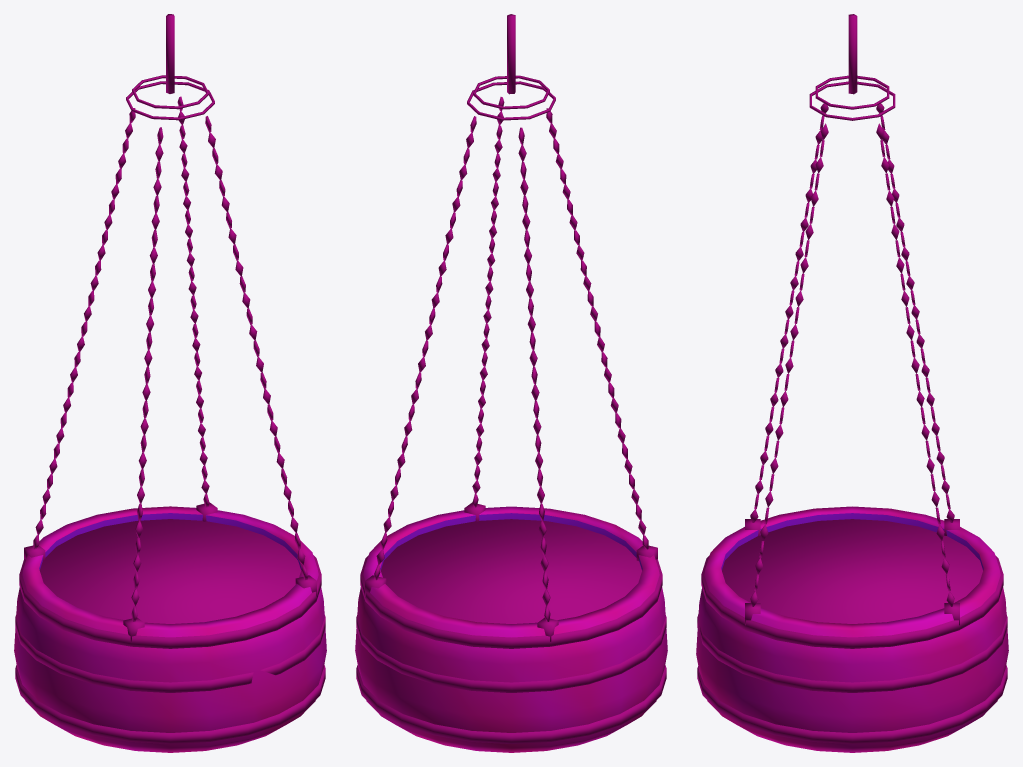
Rendered from vat.glb.
3 views of the same model, side by side, from view 1: azimuth 30°, elevation 25°; view 2: azimuth 150°, elevation 25°; view 3: azimuth 270°, elevation 25° (orthographic).
Visible parts, largest first — view 1: Body, Bands, Chains, Crown; view 2: Body, Bands, Chains, Crown; view 3: Body, Bands, Chains, Crown.
Boxes of the visible parts, x1,y1,x2,y2 form: Body: [14, 506, 326, 752]; Bands: [15, 519, 325, 743]; Chains: [33, 96, 307, 621]; Crown: [24, 14, 316, 641]; Body: [355, 506, 667, 752]; Bands: [356, 519, 666, 743]; Chains: [374, 97, 648, 621]; Crown: [365, 14, 657, 641]; Body: [696, 506, 1008, 752]; Bands: [697, 519, 1007, 743]; Chains: [750, 103, 954, 606]; Crown: [745, 14, 959, 625].
Size of what is drawn, in the model's own units: 10 by 24 by 10.
